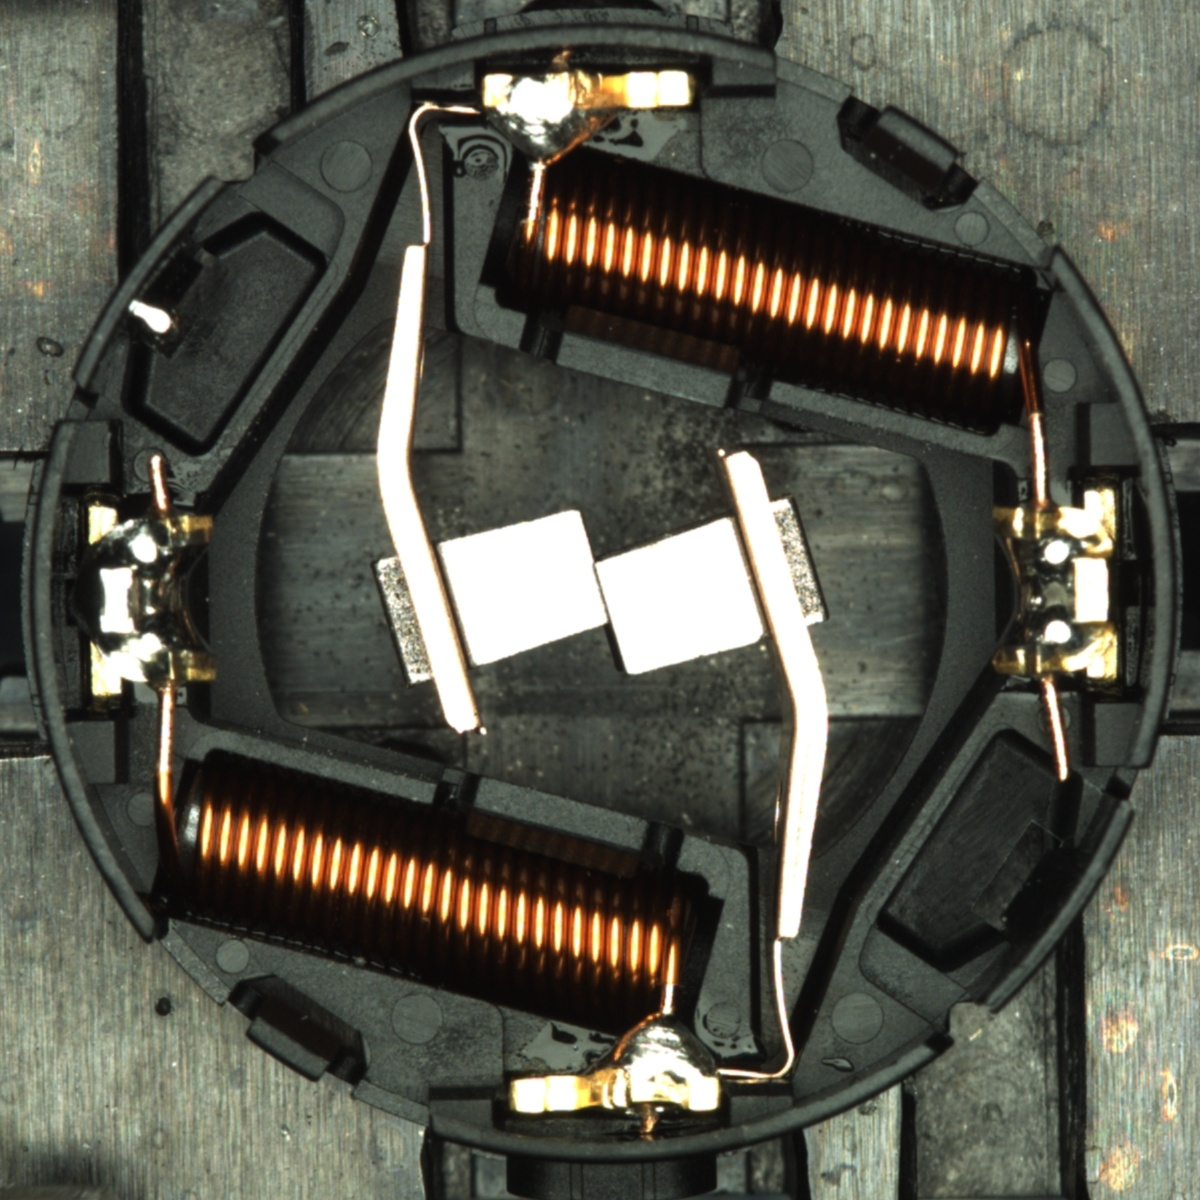1: (713, 928, 942, 1153), (255, 31, 484, 255)
2: (255, 928, 484, 1153), (713, 31, 942, 255)
3: (942, 704, 1172, 928)
4: (255, 255, 484, 479), (713, 704, 942, 928)
5: (484, 143, 713, 367), (484, 816, 713, 1040)
6: (713, 255, 942, 479), (255, 704, 484, 928)
7: (942, 255, 1172, 479), (25, 704, 255, 928)
cacbon: (402, 497, 795, 686)
chau_dien: (81, 497, 222, 699), (984, 487, 1124, 686)
hat_chi: (126, 297, 183, 353)
tay_choi: (481, 68, 697, 170), (508, 1013, 722, 1115)
thanh_de: (956, 786, 1142, 1030)
vun_chi: (127, 296, 182, 352)
